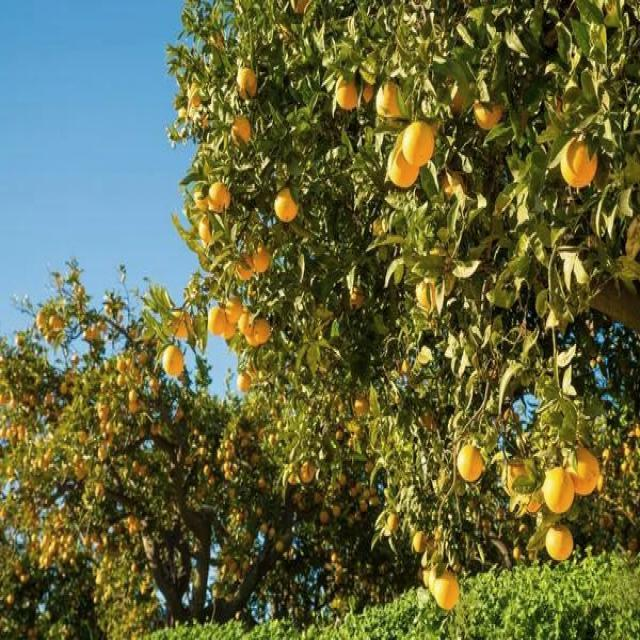Jeruk Sudah Matang: (560, 139, 598, 189), (543, 466, 574, 516), (432, 572, 461, 614), (404, 122, 432, 164), (574, 448, 598, 496), (390, 148, 420, 186), (456, 445, 484, 480), (474, 99, 504, 130), (547, 528, 574, 562), (376, 84, 402, 118), (336, 74, 361, 108), (275, 190, 299, 222), (208, 182, 230, 213), (162, 344, 183, 376), (235, 67, 258, 96), (171, 307, 190, 339), (232, 115, 252, 144), (236, 308, 254, 334), (209, 307, 226, 333), (253, 244, 270, 270), (237, 253, 253, 280), (200, 214, 214, 243), (227, 301, 243, 325), (255, 322, 272, 342), (195, 188, 209, 212), (236, 373, 252, 392), (355, 397, 370, 416), (302, 462, 316, 482), (412, 533, 426, 552), (349, 290, 362, 306), (387, 514, 397, 528)
